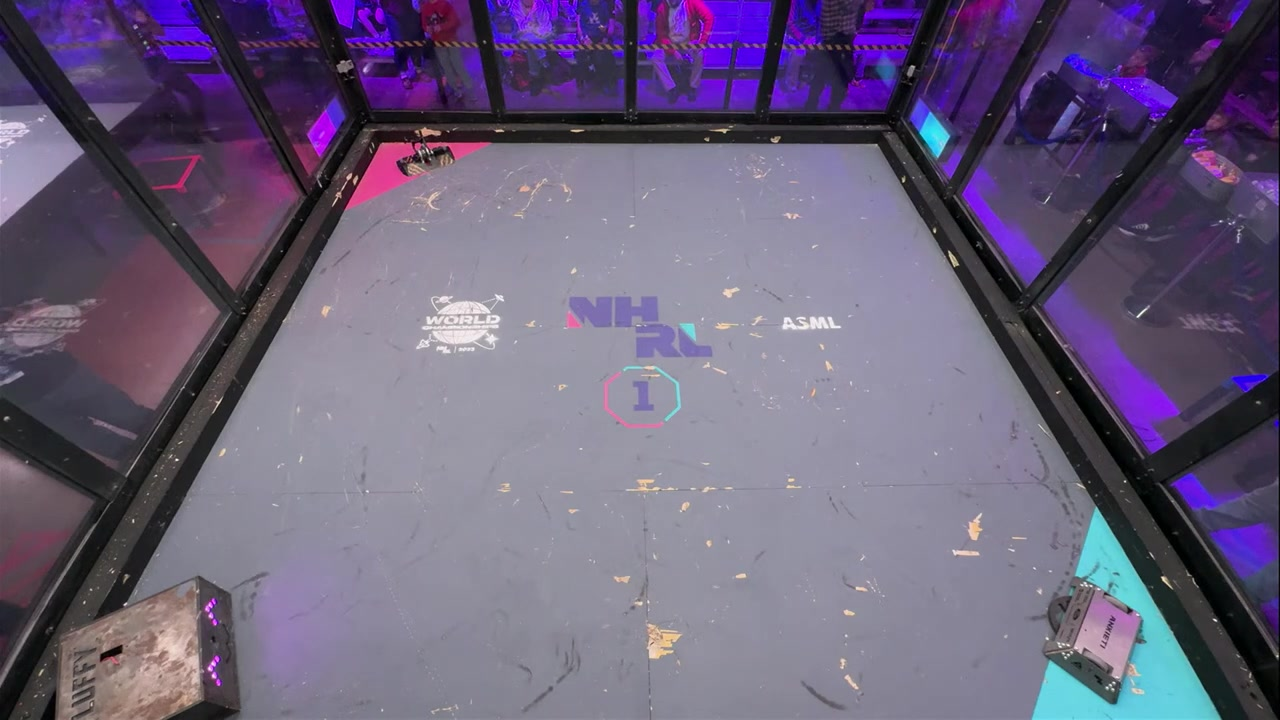combatbot: (1045, 581, 1143, 703), (398, 149, 456, 176)
housebot: (59, 577, 242, 717)
